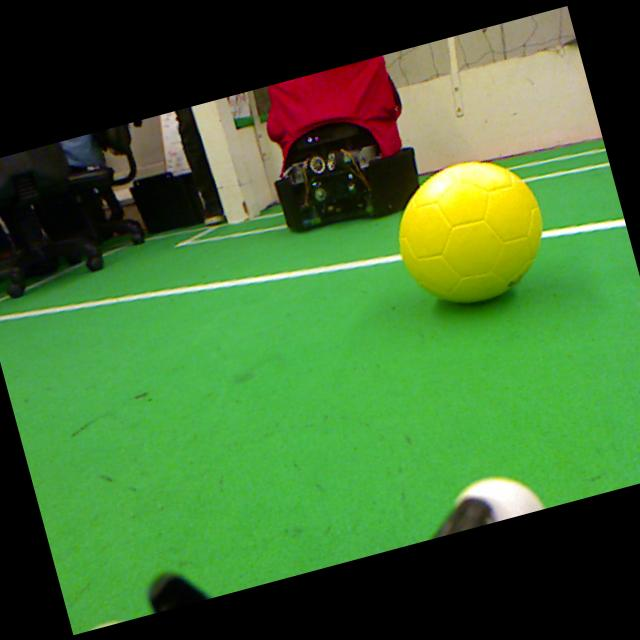ball: (398, 161, 542, 302)
goal: (191, 100, 249, 223)
